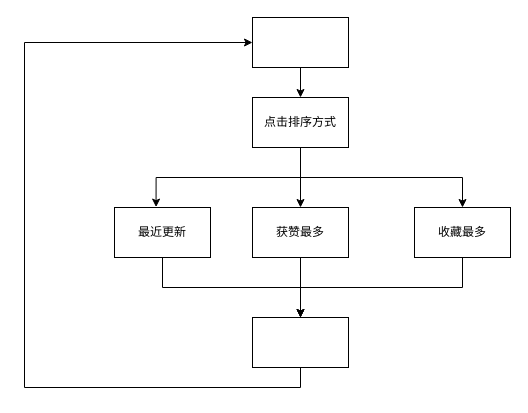
Some shapes in this 528 by 413 pixel diagram are drawn without their labels. The shapes that lost their labels are listed below. From the top down, each one's centre as x and y in pixels, then its label:
At point 300,42: "知识库页".
At point 300,342: "排序内容".
